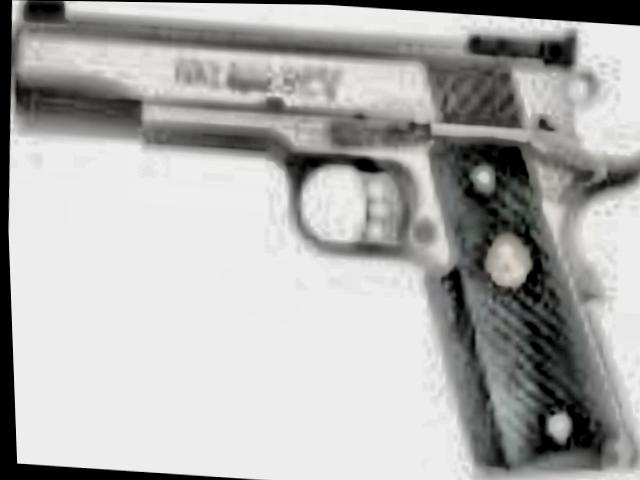pistol: (0, 0, 640, 474)
